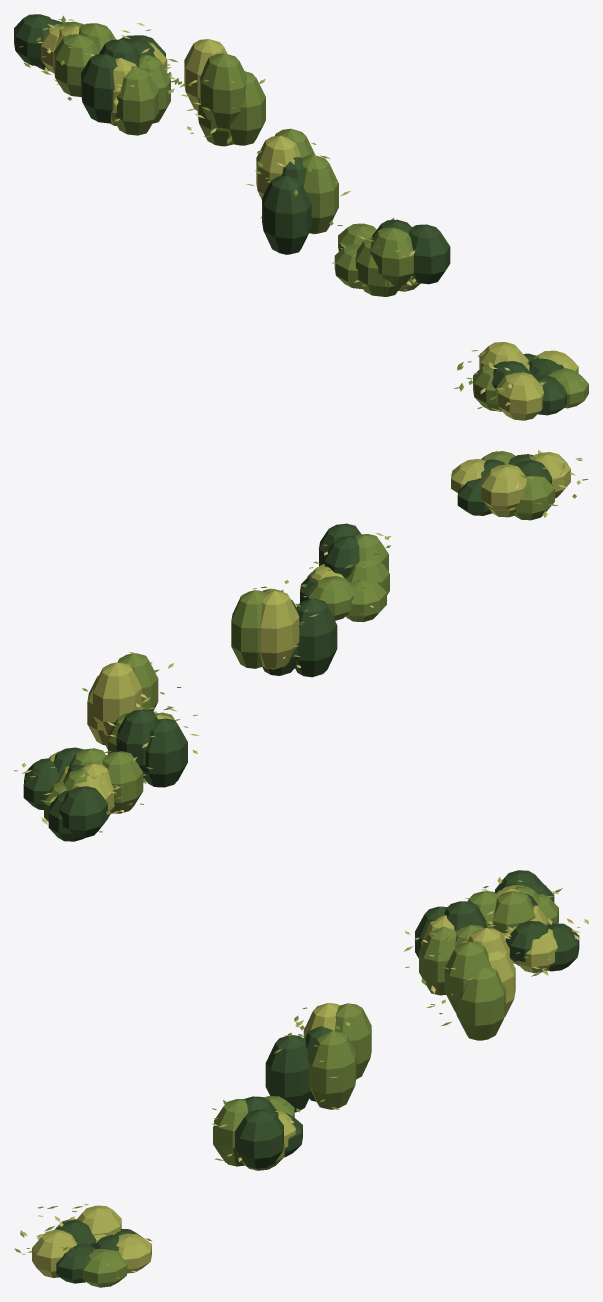
Rendered from Garden_LeafyHedge_03.obj.
3 renders of one model, top to bottom at view 1: azimuth 30°, elevation 25°; view 2: azimuth 150°, elevation 25°; view 3: azimuth 330°, elevation 25°, orthographic.
Parts seen in each view (by area): view 1: Garden_LeafyHedge_03; view 2: Garden_LeafyHedge_03; view 3: Garden_LeafyHedge_03.
Boxes of the visible parts, x1,y1,x2,y2 form: Garden_LeafyHedge_03: (14, 14, 588, 420); Garden_LeafyHedge_03: (14, 449, 588, 841); Garden_LeafyHedge_03: (14, 870, 588, 1287).
Bounding box in the file's own units: 3.43 × 2.43 × 21.87.
Materials: 1 (1 with a texture image).
